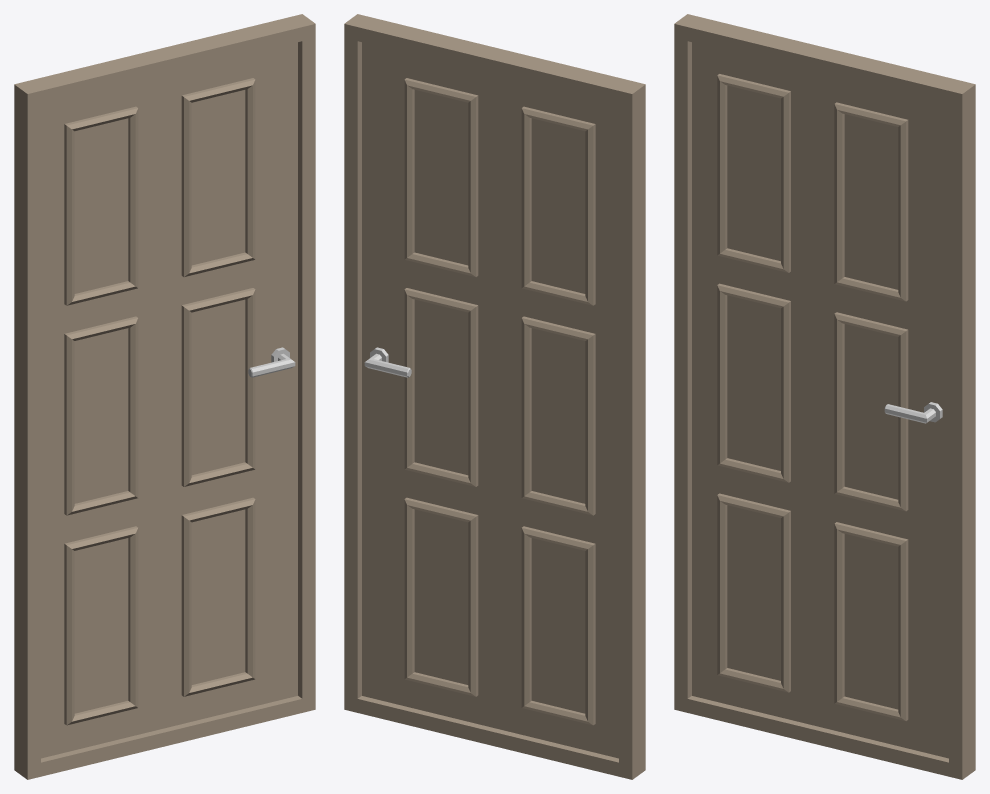
Rendered from Mesh_Door_B03.fbx.
The picture shows the model from 3 angles, left to right: view 1: azimuth 30°, elevation 25°; view 2: azimuth 150°, elevation 25°; view 3: azimuth 330°, elevation 25°; orthographic projection.
Parts seen in each view (by area): view 1: Mesh_Door_B03; view 2: Mesh_Door_B03; view 3: Mesh_Door_B03.
Part boxes in pixels (box(x1,y1,x2,y2)): Mesh_Door_B03: box(14, 14, 315, 779); Mesh_Door_B03: box(344, 14, 645, 779); Mesh_Door_B03: box(674, 14, 975, 779).
Bounding box in the file's own units: 0.9 × 2.05 × 0.1524.
